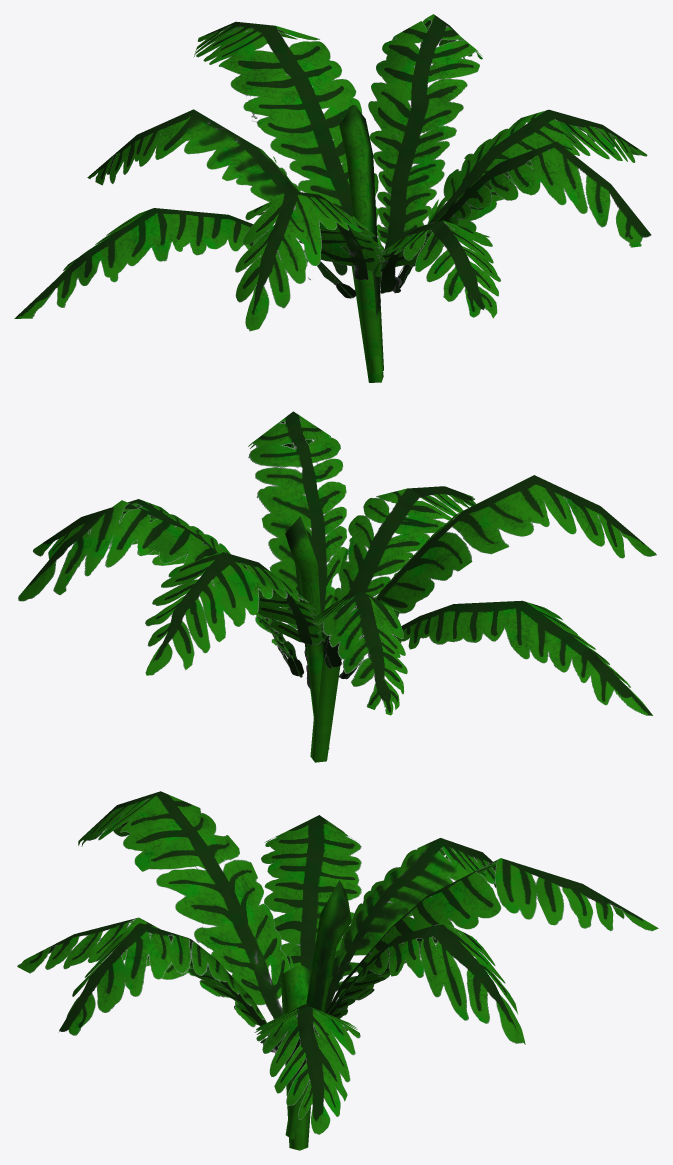
Rendered from art_3D model_environment_paku.fbx.
3 renders of one model, top to bottom at view 1: azimuth 30°, elevation 25°; view 2: azimuth 150°, elevation 25°; view 3: azimuth 270°, elevation 25°, orthographic. The views are drawn at different scales.
Parts seen in each view (by area): view 1: Cylinder; view 2: Cylinder; view 3: Cylinder.
Part boxes in pixels (box(x1,y1,x2,y2)): Cylinder: box(14, 14, 651, 382); Cylinder: box(18, 411, 656, 762); Cylinder: box(17, 791, 658, 1150).
Bounding box in the file's own units: 71.1 × 30.39 × 61.22.
1 material, 1 textured.
